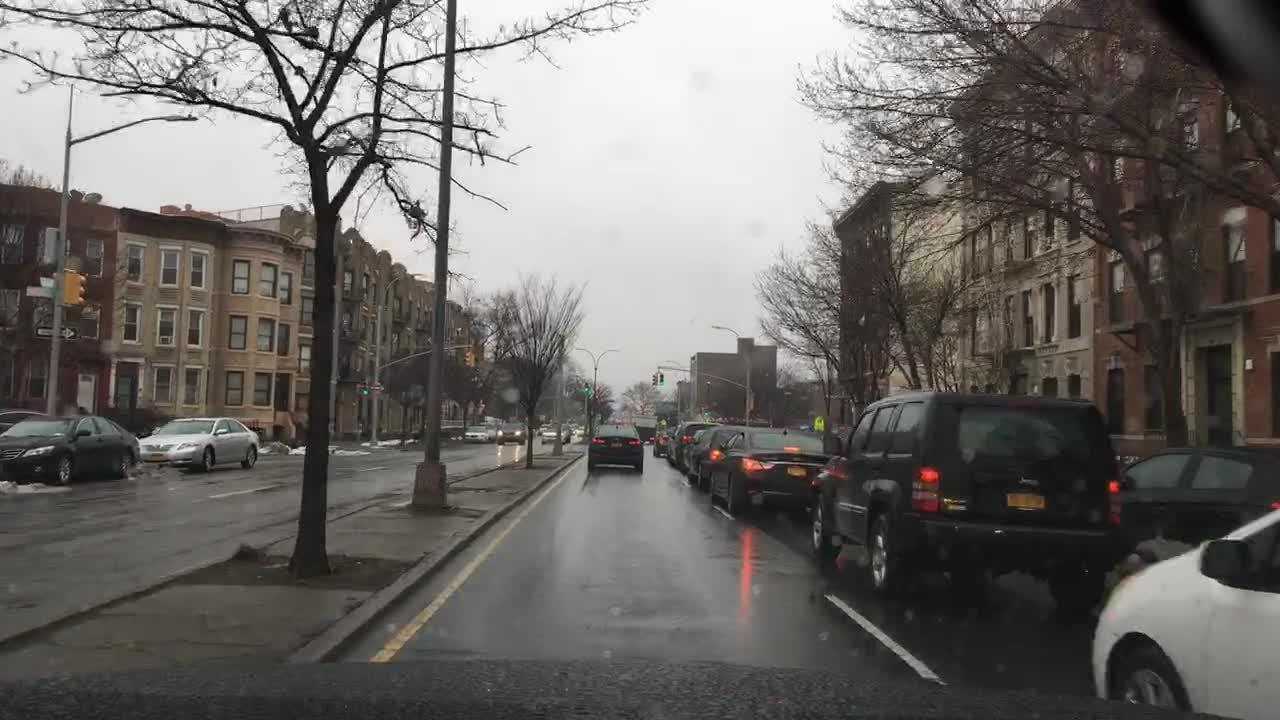jeep: (1012, 473, 1044, 492)
